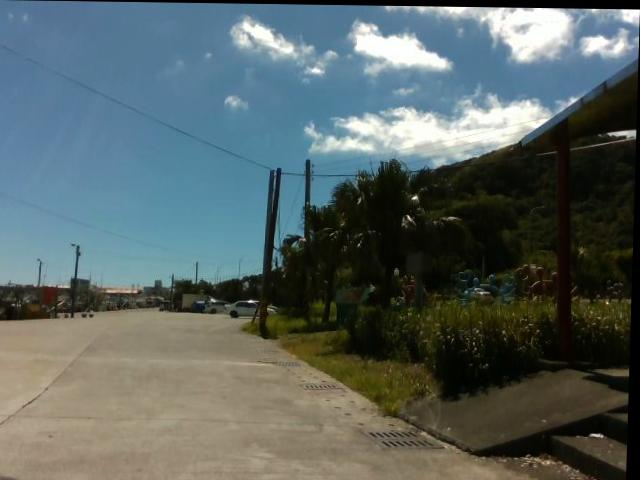pollute: (590, 430, 608, 437)
